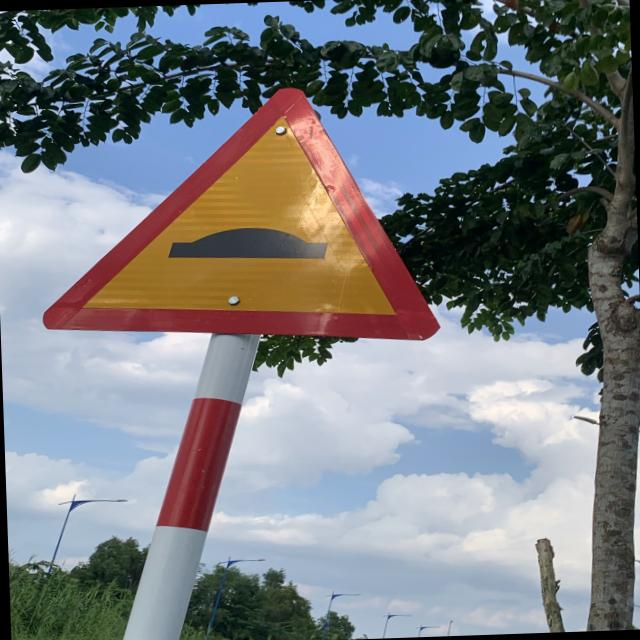Duong_Cong_Ben_Phai: (32, 80, 438, 354)
